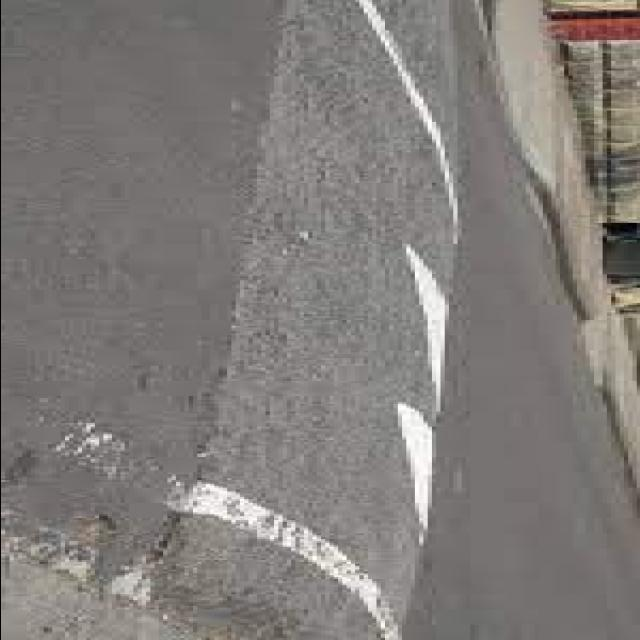speedbreaker: (153, 0, 474, 640)
